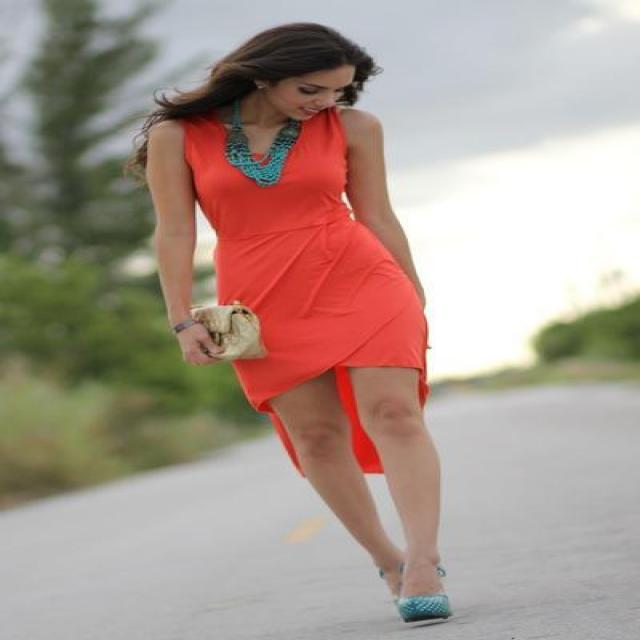bag: (190, 280, 261, 358)
dress: (180, 115, 430, 473)
shoe: (388, 580, 449, 622)
